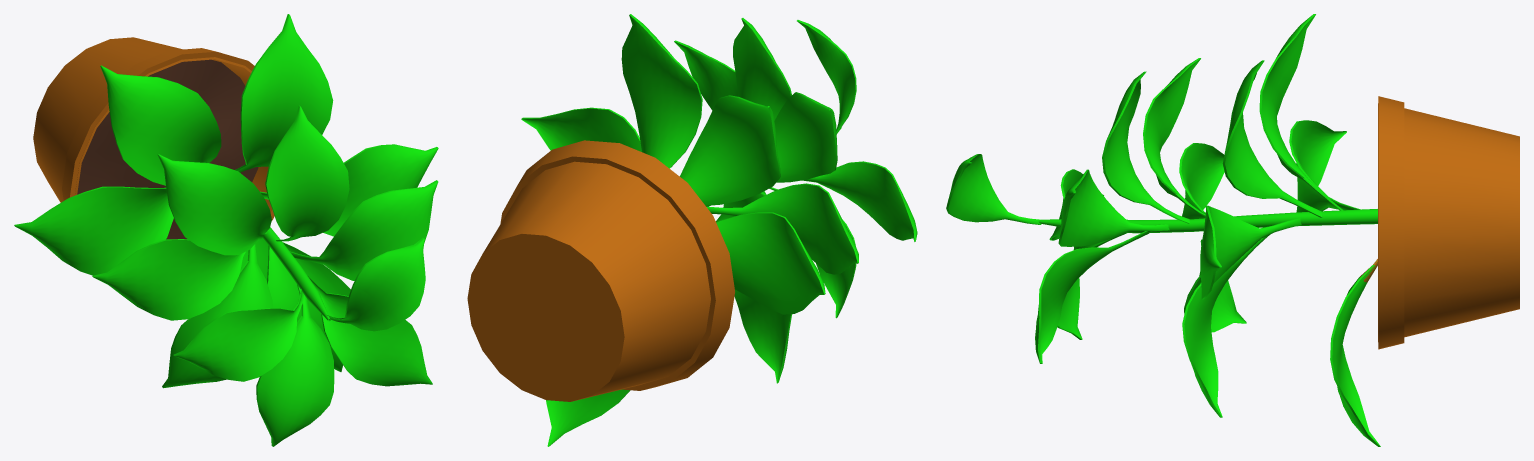
The model's file is PLANT_1_PROPS_Mat.fbx.
The picture shows the model from 3 angles, left to right: view 1: azimuth 30°, elevation 25°; view 2: azimuth 150°, elevation 25°; view 3: azimuth 270°, elevation 25°; orthographic projection. The views are drawn at different scales.
Parts seen in each view (by area): view 1: polySurface81; view 2: polySurface81; view 3: polySurface81.
Part boxes in pixels (x1,y1,x2,y2): polySurface81: (14,14,438,446); polySurface81: (467,14,917,446); polySurface81: (946,14,1519,446).
Bounding box in the file's own units: 135 × 137 × 189.
